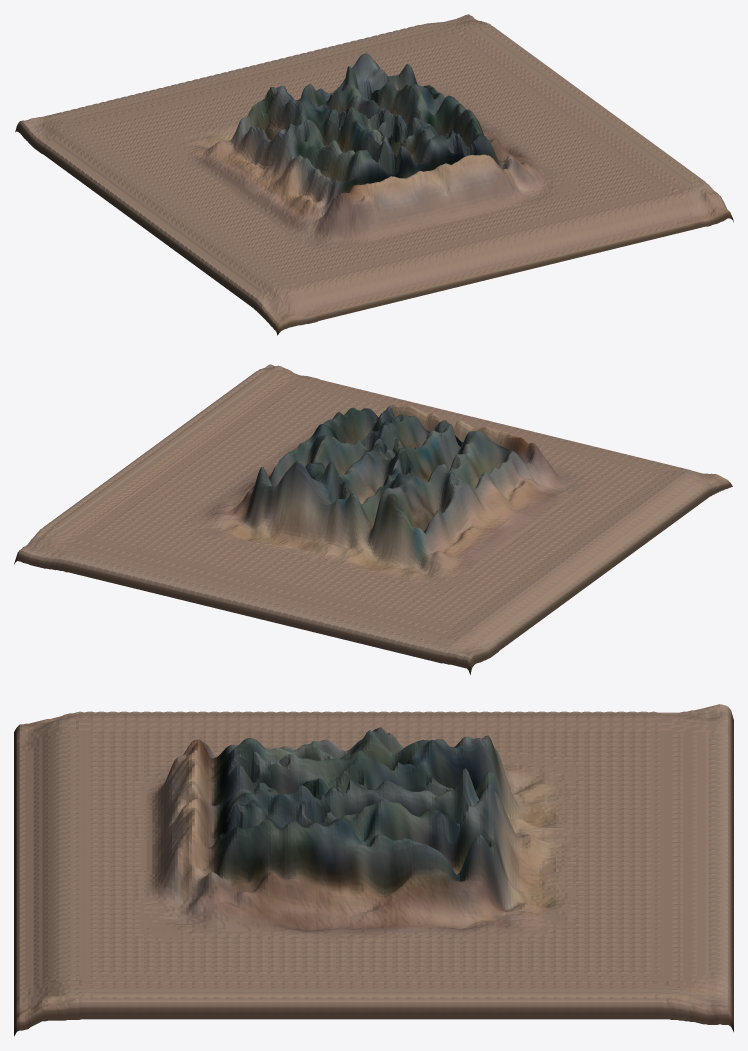
Rendered from terrain.glb.
The picture shows the model from 3 angles, top to bottom: view 1: azimuth 30°, elevation 25°; view 2: azimuth 150°, elevation 25°; view 3: azimuth 270°, elevation 25°; orthographic projection. The views are drawn at different scales.
Visible parts, largest first — view 1: world; view 2: world; view 3: world.
Part boxes in pixels (bbox=[...]): world: bbox=[15, 14, 733, 335]; world: bbox=[14, 364, 732, 674]; world: bbox=[14, 704, 733, 1036].
Bounding box in the file's own units: 255 × 70 × 255.
Materials: 1 (1 with a texture image).
